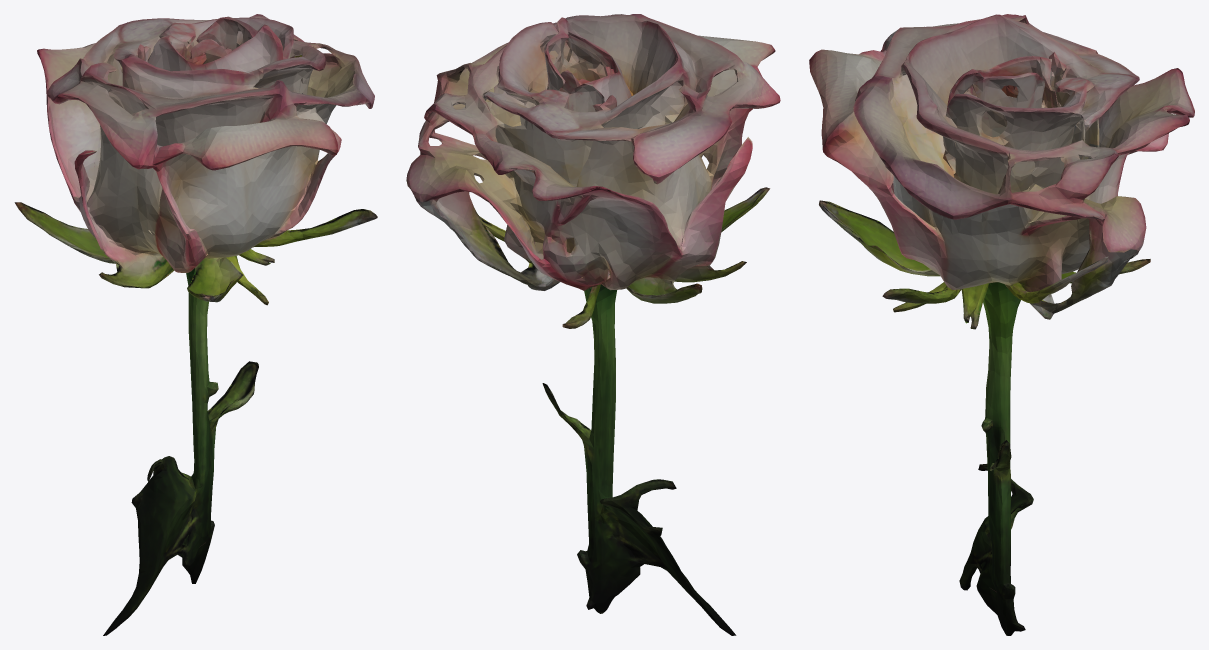
3 renders of one model, left to right at view 1: azimuth 30°, elevation 25°; view 2: azimuth 150°, elevation 25°; view 3: azimuth 270°, elevation 25°, orthographic. The views are drawn at different scales.
Visible parts, largest first — view 1: world; view 2: world; view 3: world.
Part boxes in pixels (x1,y1,x2,y2): world: [14, 14, 377, 635]; world: [406, 14, 780, 635]; world: [809, 14, 1194, 635].
Size of the model in its own units: 0.5516 by 0.998 by 0.576.
1 material, 1 textured.
